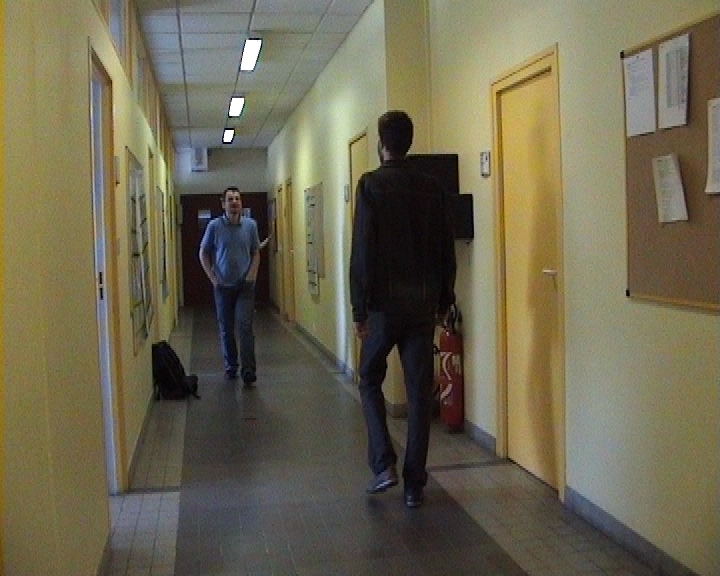leave bag unattended: (132, 315, 289, 410)
